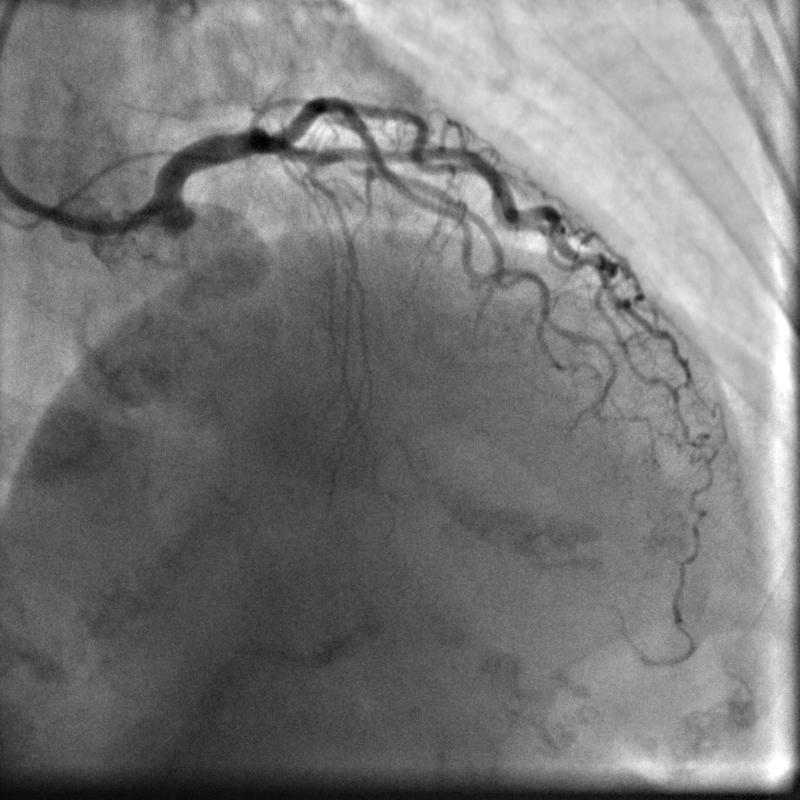Stenosis: (340, 158, 377, 177)
